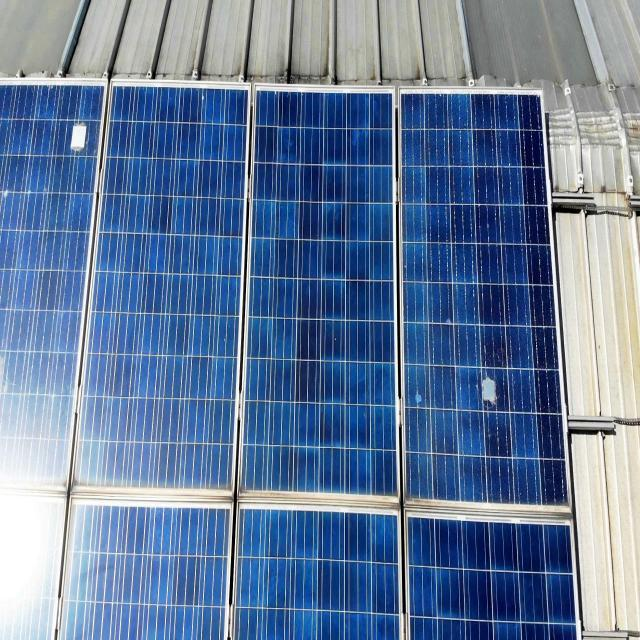faulty: (396, 92, 572, 518), (51, 82, 102, 182)
no faulty: (71, 82, 252, 502), (238, 82, 410, 508), (63, 500, 577, 640)
